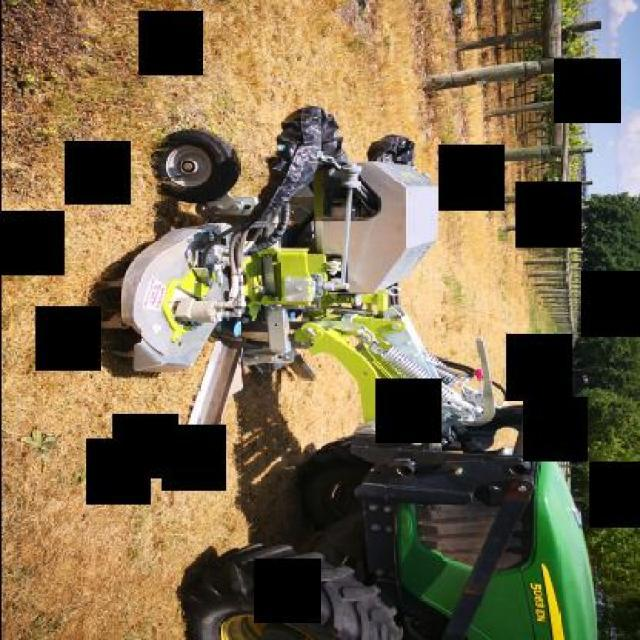Tratores - v5 YOLO V8L 2024-11-13: (48, 350, 630, 638)
